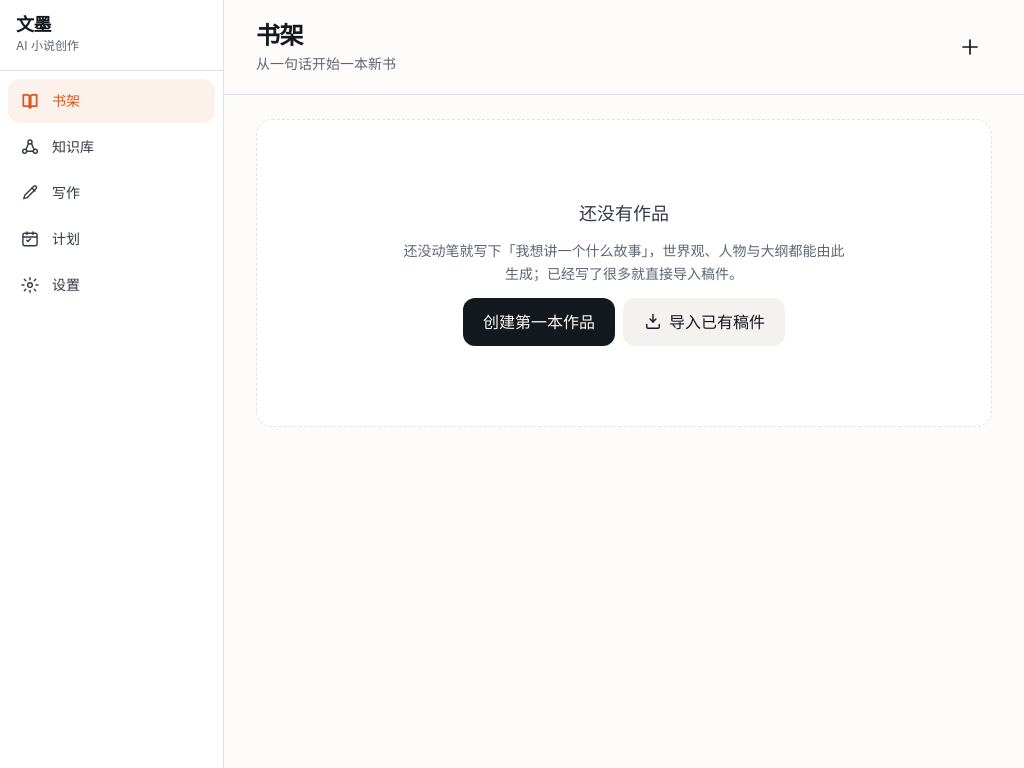
Test: 新建作品的两条路 › 默认是「从一句话」，会问故事内核
What coordinates should you click on to do the following:
click the button "创建第一本作品"
I would click on:
 (539, 322)
Its box is [463, 298, 615, 346].
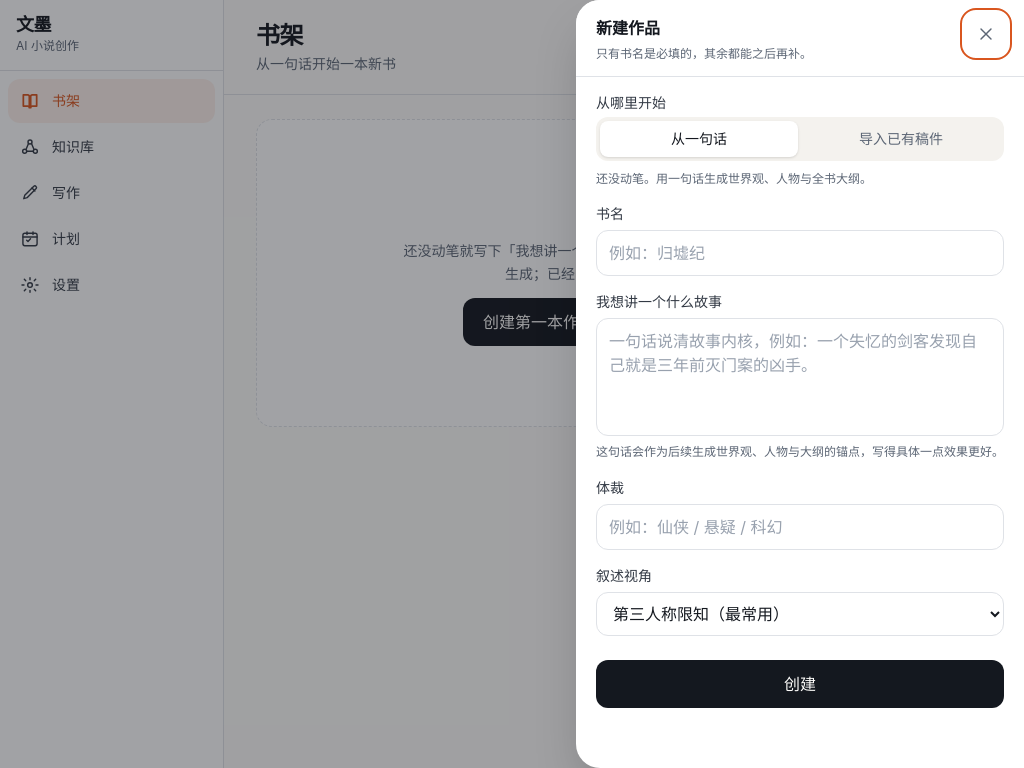
Now the text box labelled "我想讲一个什么故事" is shown, box [596, 318, 1004, 436]
Now the button "创建" is shown, box [596, 660, 1004, 708]
